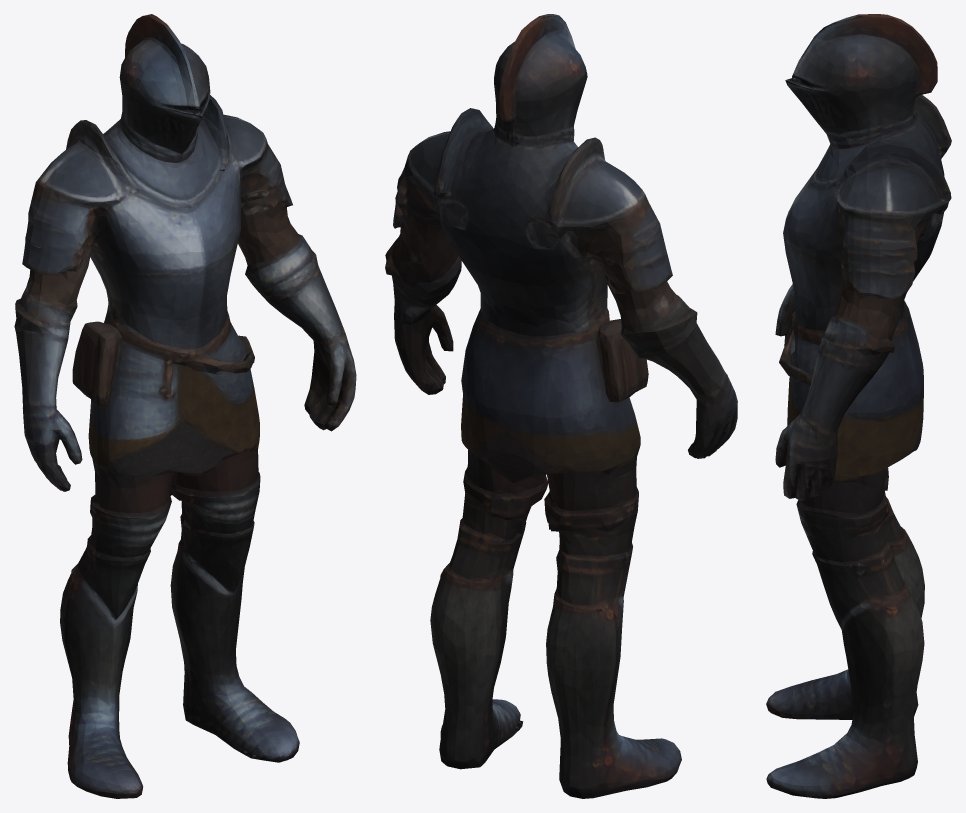
File: Copilot3D-b92ee044-9ace-41e8-891d-6b98df6597b6.glb
3 renders of one model, left to right at view 1: azimuth 30°, elevation 25°; view 2: azimuth 150°, elevation 25°; view 3: azimuth 270°, elevation 25°, orthographic. The views are drawn at different scales.
Visible parts, largest first — view 1: world; view 2: world; view 3: world.
Part boxes in pixels (x1=…): world: x1=14, y1=14, x2=356, y2=798; world: x1=385, y1=14, x2=737, y2=798; world: x1=766, y1=14, x2=951, y2=798.
Bounding box in the file's own units: 0.4635 × 1 × 0.2295.
1 material, 1 textured.
